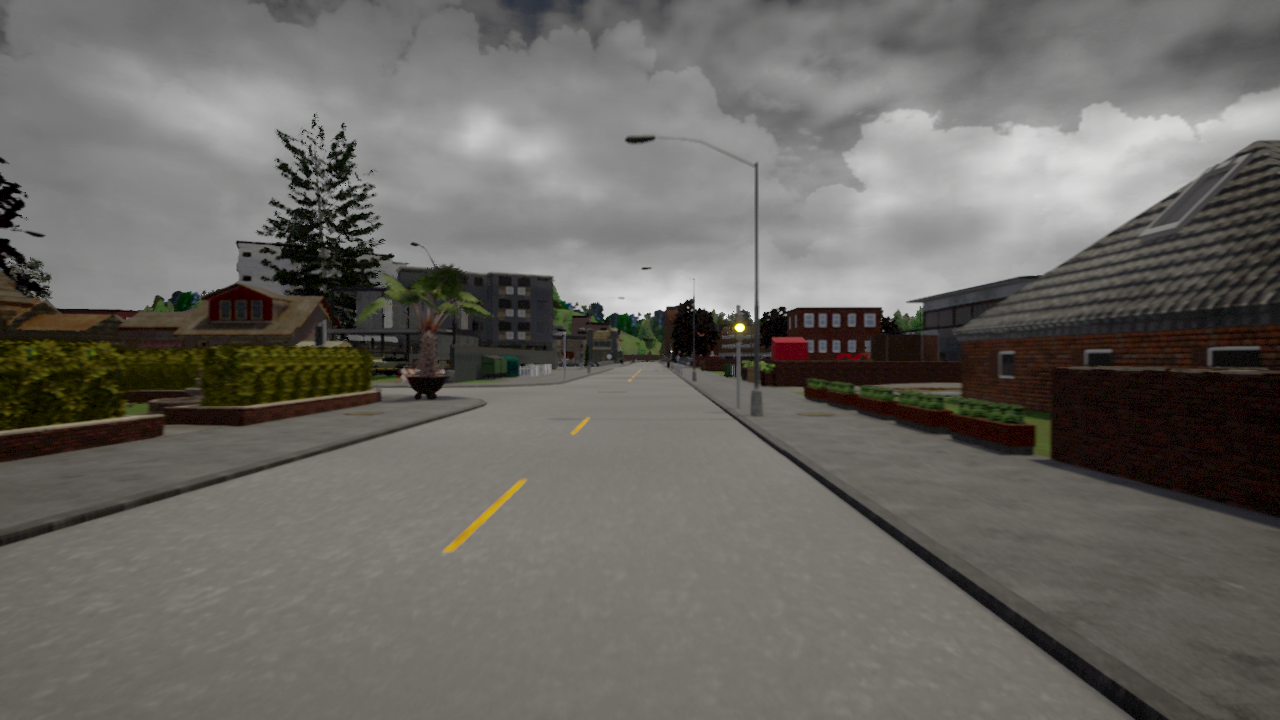yellow: (734, 312, 747, 344)
